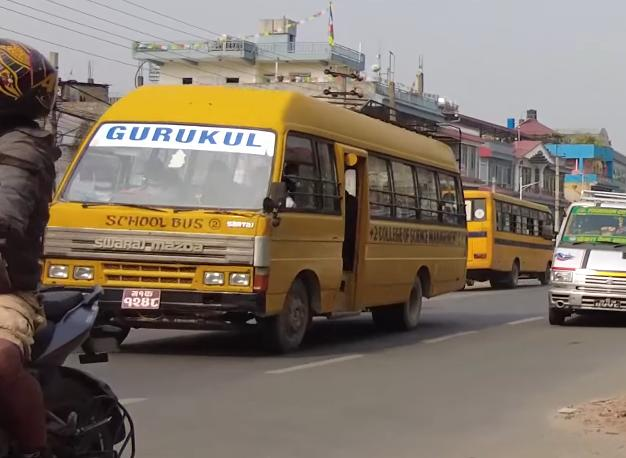micro_bus: (547, 189, 626, 333)
school_bus: (19, 78, 470, 362), (455, 180, 560, 297)
